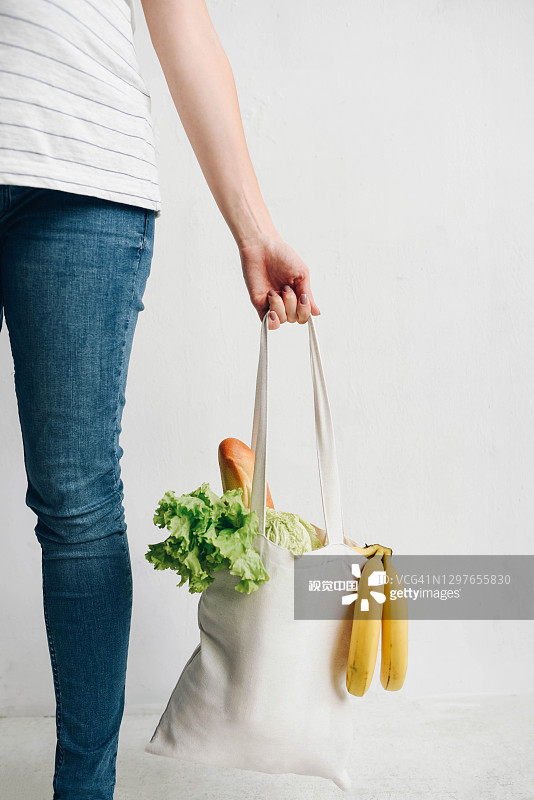no-phone: (222, 220, 332, 338)
